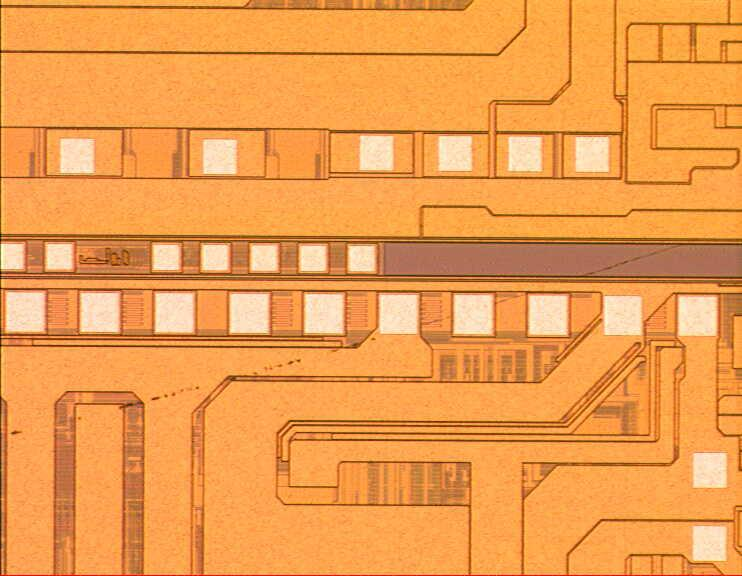SCRATCH: (1, 218, 742, 447)
